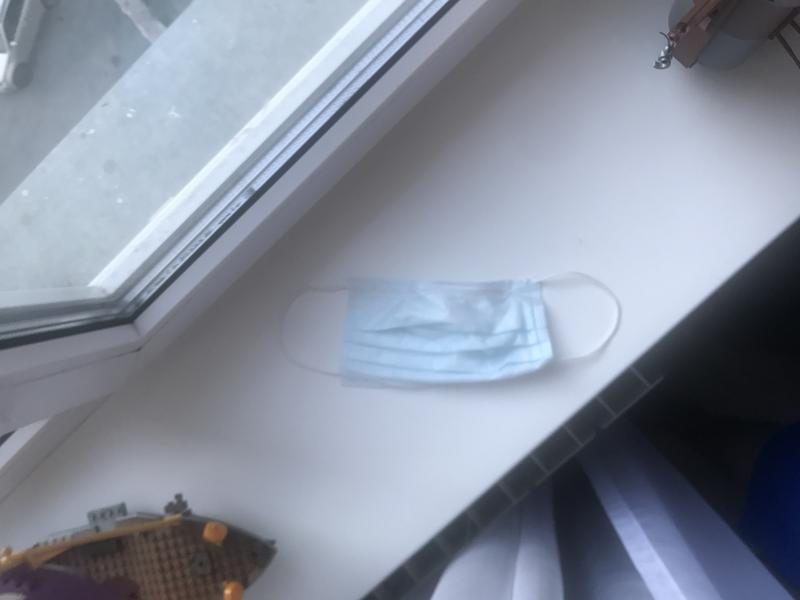medical_mask: (345, 271, 622, 376)
